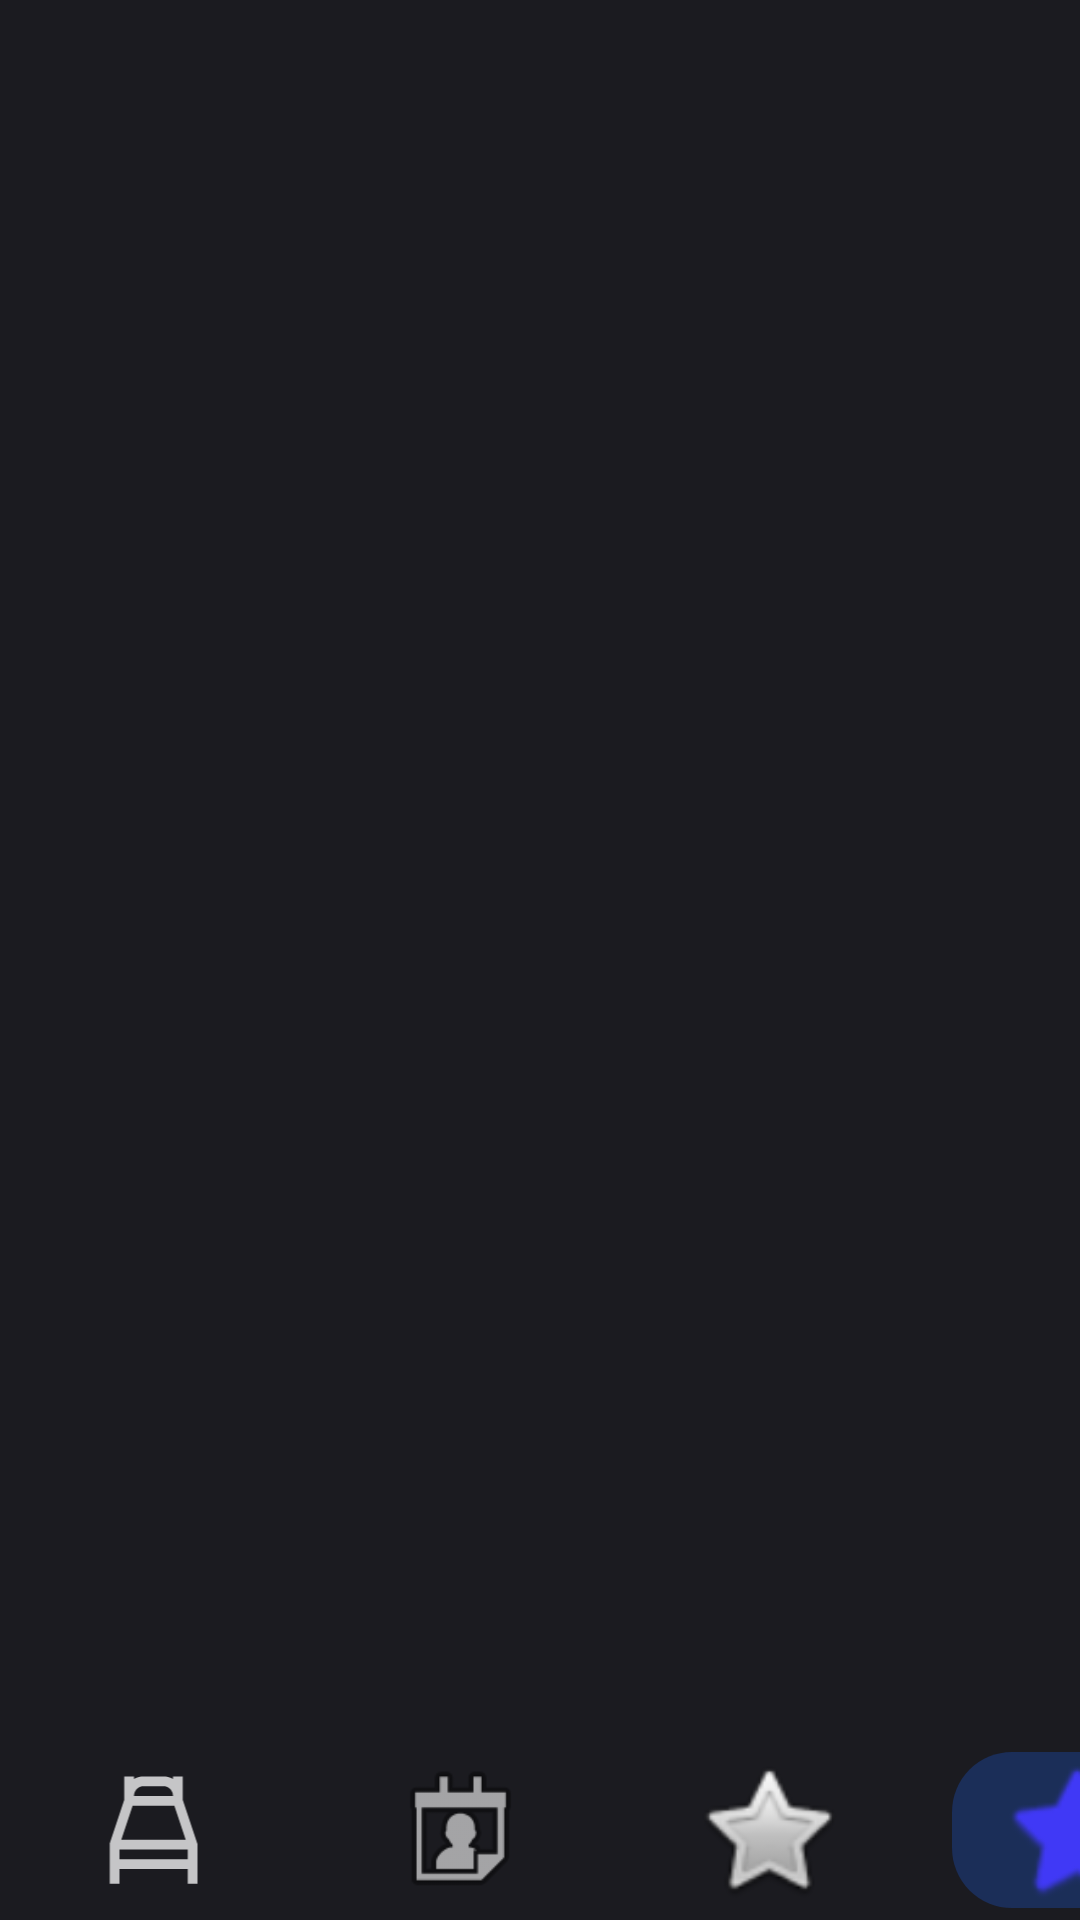

Where icons sit on this 1080px x 1920px app screen, as (x1, y1, x2, y2):
bed: (109, 1776, 198, 1884)
calendar: (415, 1776, 506, 1881)
